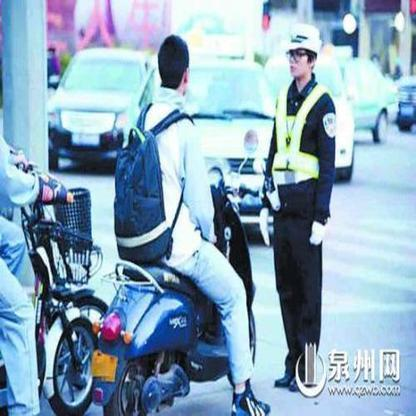target: (91, 33, 271, 414)
